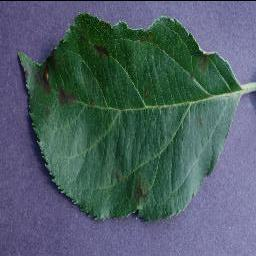apple healthy: (16, 11, 255, 223)
